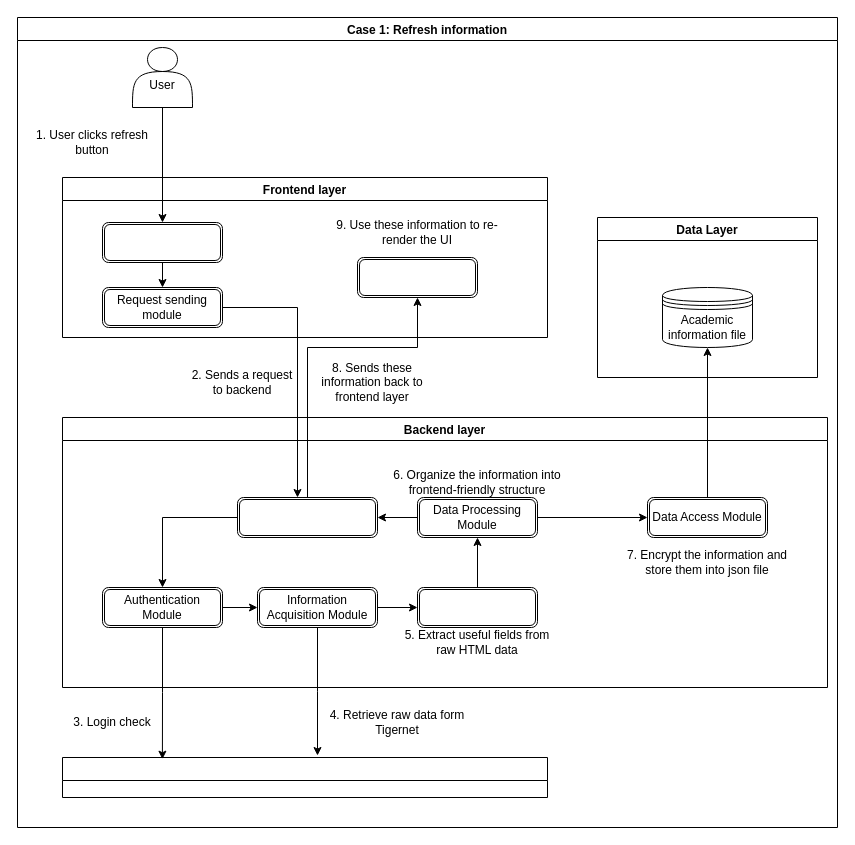
Some shapes in this 855 by 845 pixel diagram are drawn without their labels. The centre of each missing label's shape, as x and y in pixels:
"Application Controller" goes at (x=307, y=517).
"Parser Module" goes at (x=477, y=607).
"Render Module" goes at (x=417, y=277).
"Tigernet" goes at (x=305, y=777).
"User input module" goes at (x=162, y=242).
